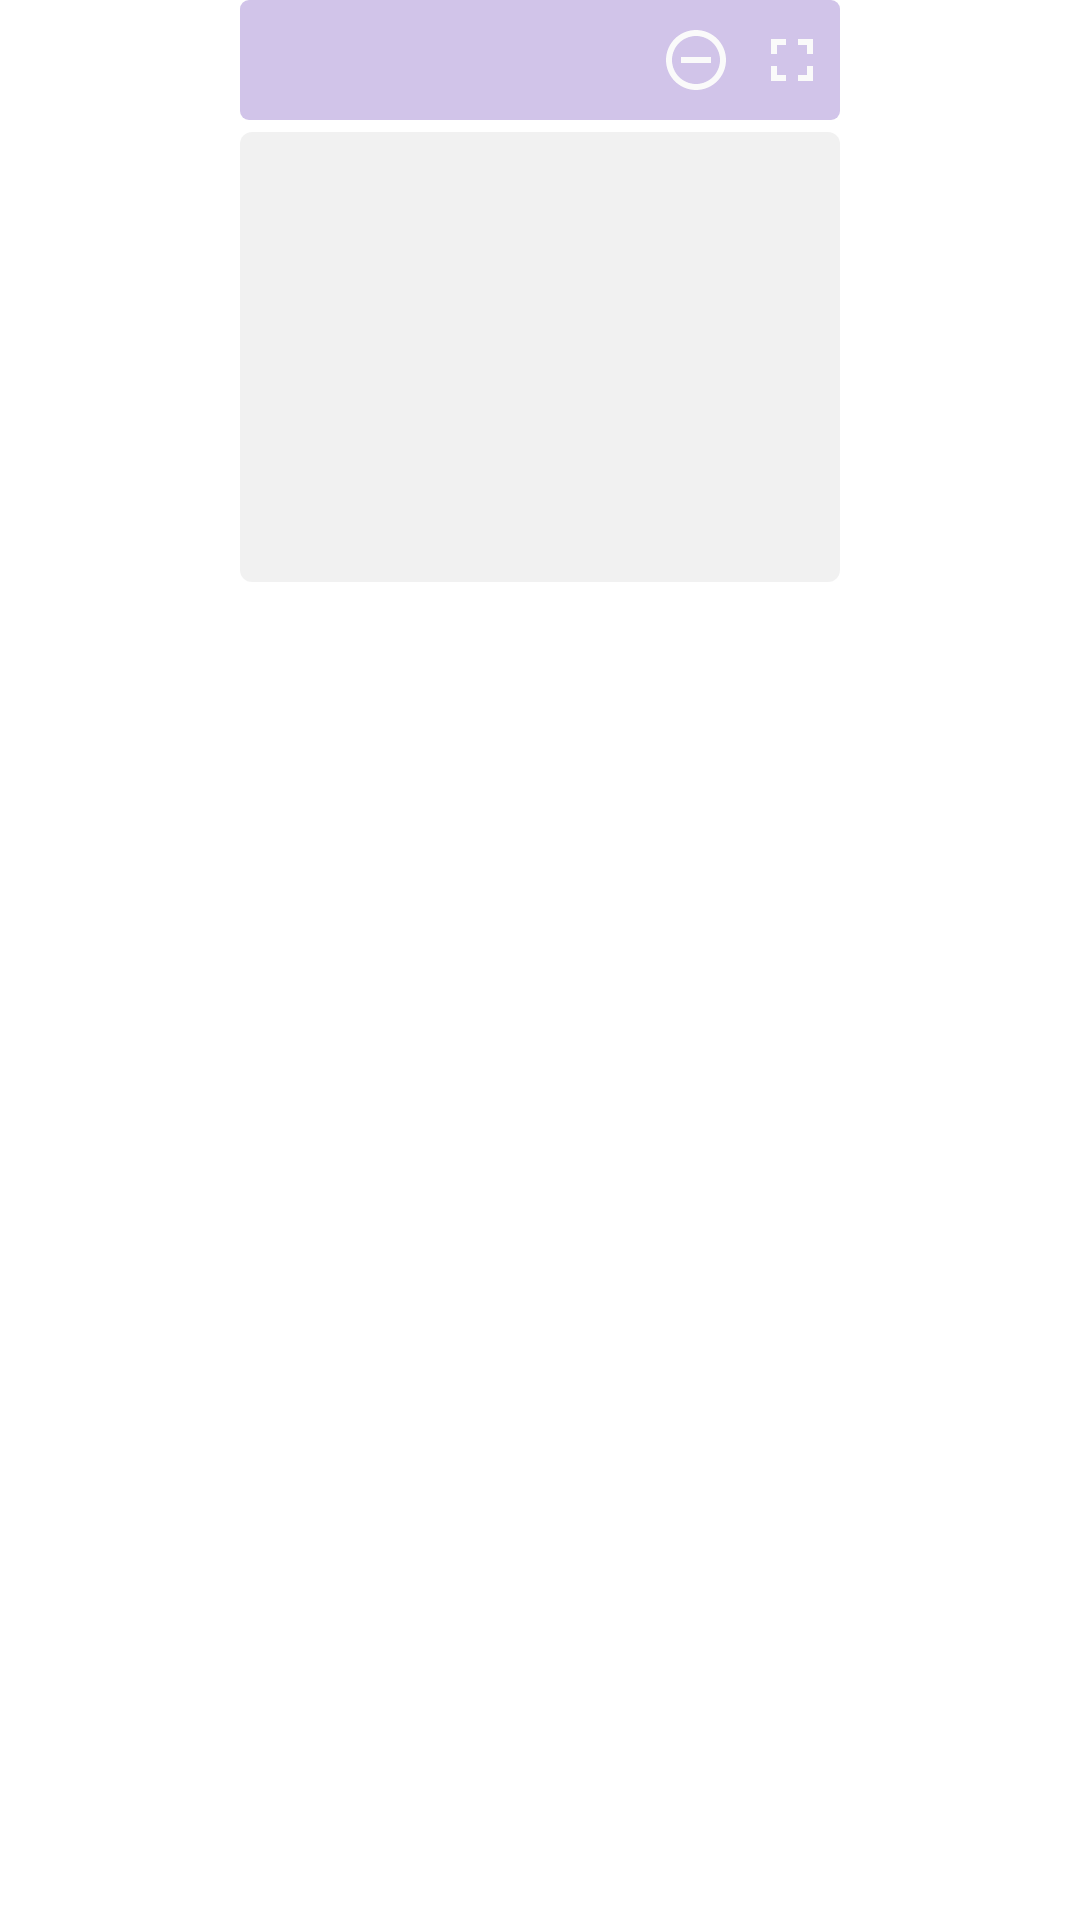

Icon click points for this 1080*1920 phone screenshot, format [x,y]:
fullscreen widget: [792,60]
widget minus: [696,60]
